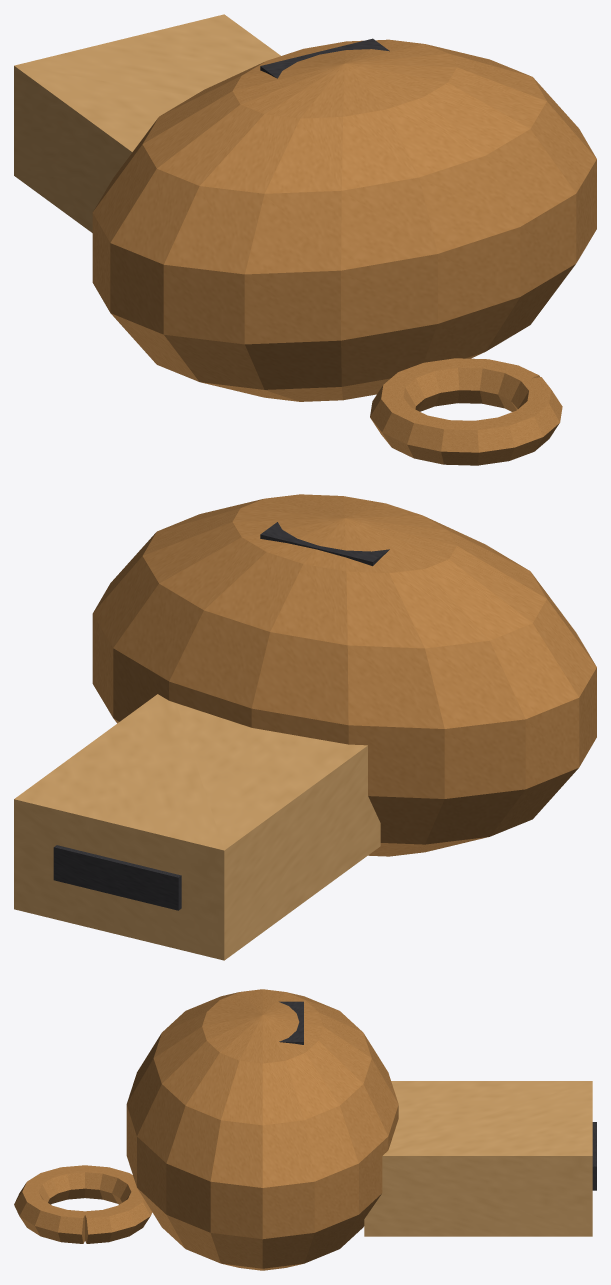
File: teaching_whistle.obj
3 views of the same model, one above another, from view 1: azimuth 30°, elevation 25°; view 2: azimuth 150°, elevation 25°; view 3: azimuth 270°, elevation 25° (orthographic). The views are drawn at different scales.
Parts seen in each view (by area): view 1: teaching_whistle; view 2: teaching_whistle; view 3: teaching_whistle.
Boxes of the visible parts, x1,y1,x2,y2 form: teaching_whistle: (14,14,596,465); teaching_whistle: (14,494,596,960); teaching_whistle: (14,989,596,1270).
Bounding box in the file's own units: 3.12 × 2 × 4.59.
Materials: 1 (1 with a texture image).
